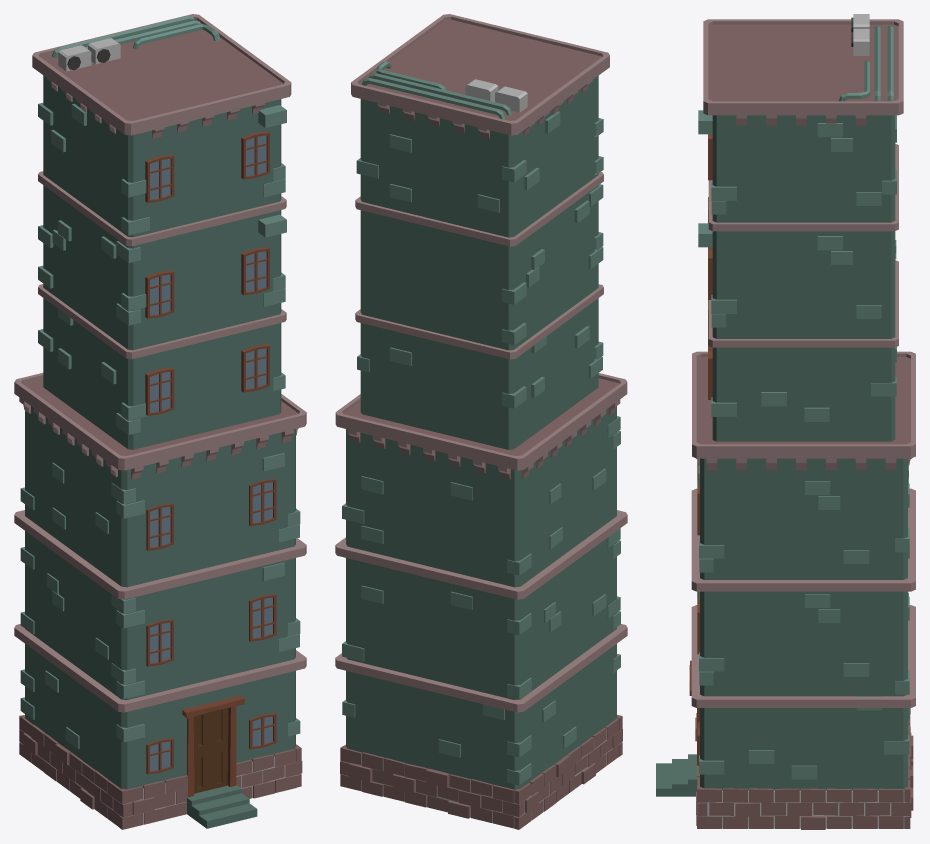
File: 6Story_Stack_Mat.glb
The picture shows the model from 3 angles, left to right: view 1: azimuth 30°, elevation 25°; view 2: azimuth 150°, elevation 25°; view 3: azimuth 270°, elevation 25°; orthographic projection. The views are drawn at different scales.
Parts seen in each view (by area): view 1: 6Story_Stack_Mat; view 2: 6Story_Stack_Mat; view 3: 6Story_Stack_Mat.
Boxes of the visible parts, x1,y1,x2,y2 form: 6Story_Stack_Mat: [14, 14, 306, 829]; 6Story_Stack_Mat: [335, 14, 627, 829]; 6Story_Stack_Mat: [656, 14, 915, 829].
Size of the model in its own units: 1.73 by 6.24 by 2.
